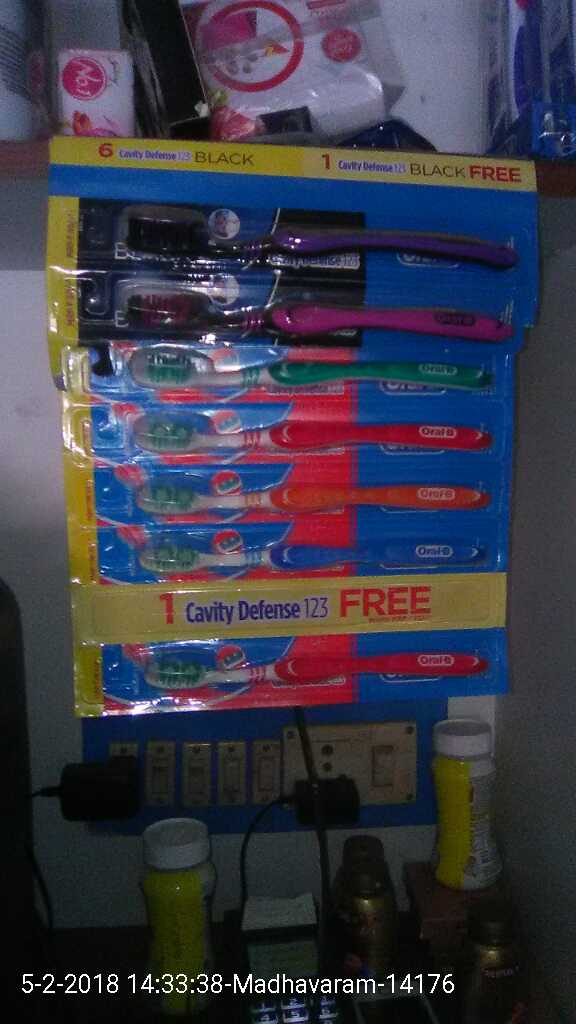oralb: (122, 204, 547, 270), (125, 280, 526, 345), (122, 341, 507, 399), (126, 467, 498, 527), (118, 408, 501, 466), (132, 535, 510, 582)
